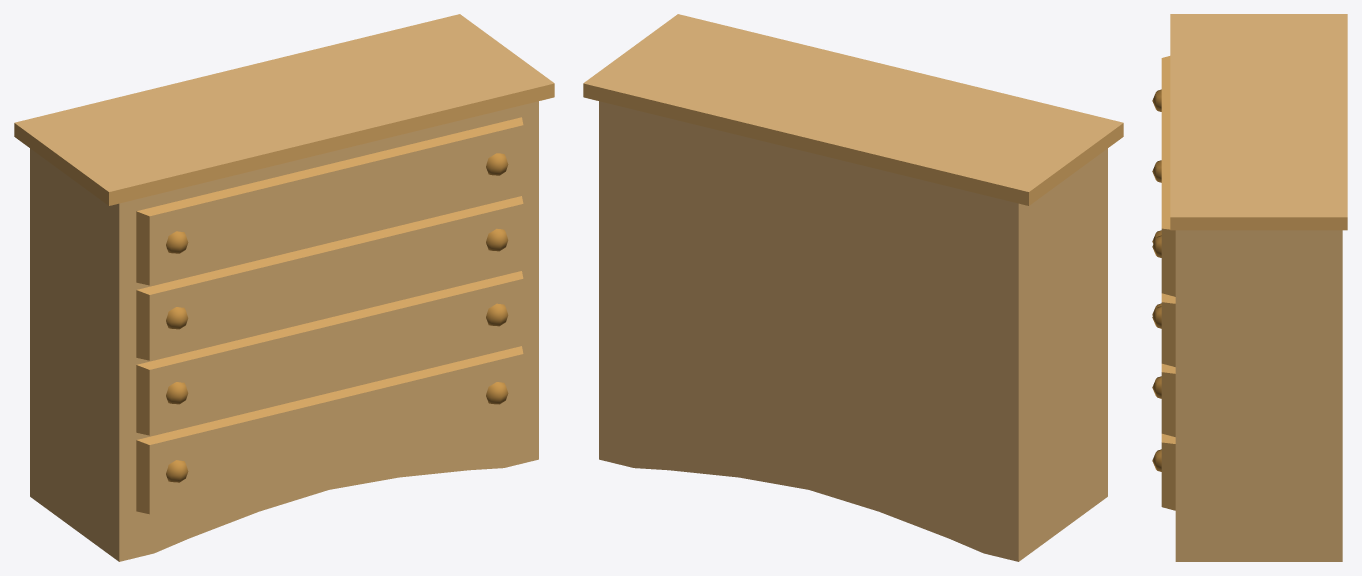
File: Dresser.fbx
3 renders of one model, left to right at view 1: azimuth 30°, elevation 25°; view 2: azimuth 150°, elevation 25°; view 3: azimuth 270°, elevation 25°, orthographic. The views are drawn at different scales.
Parts seen in each view (by area): view 1: Dresser; view 2: Dresser; view 3: Dresser.
Part boxes in pixels (left/top/right/bottom): Dresser: left=14, top=14, right=554, bottom=561; Dresser: left=583, top=14, right=1123, bottom=561; Dresser: left=1152, top=14, right=1347, bottom=561.
Size of the model in its own units: 122 by 97.98 by 49.49.
